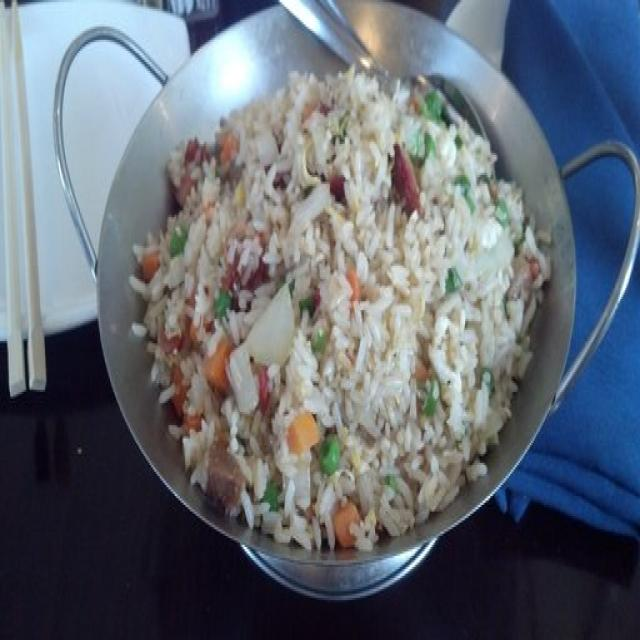Rice: (131, 62, 539, 554)
